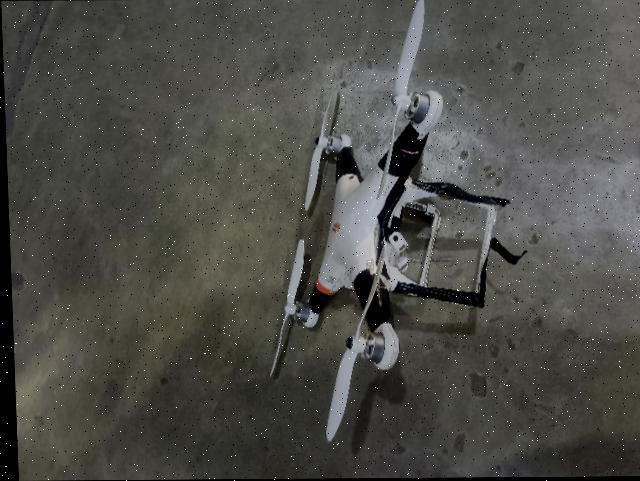drone: (213, 2, 537, 450)
